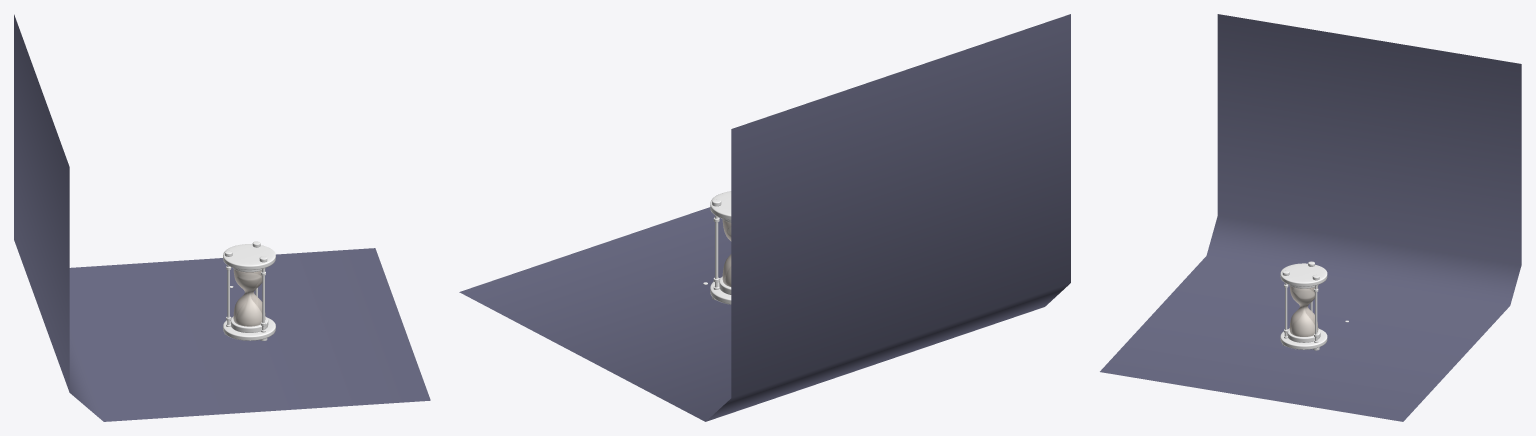
Rendered from sandglasses.glb.
3 renders of one model, left to right at view 1: azimuth 30°, elevation 25°; view 2: azimuth 150°, elevation 25°; view 3: azimuth 270°, elevation 25°, orthographic. The views are drawn at different scales.
Visible parts, largest first — view 1: Plane, Cylinder, Cylinder.002, Cylinder.009; view 2: Plane, Cylinder; view 3: Plane, Cylinder, Cylinder.002, Cylinder.009.
Boxes of the visible parts, x1,y1,x2,y2 form: Plane: (14,14,430,421); Cylinder: (223,244,275,340); Cylinder.002: (233,269,265,326); Cylinder.009: (236,273,261,325); Plane: (459,14,1070,421); Cylinder: (710,191,731,304); Plane: (1100,14,1521,421); Cylinder: (1280,263,1327,349); Cylinder.002: (1289,285,1318,336); Cylinder.009: (1292,288,1314,336).
Size of the model in its own units: 20.32 by 12.22 by 20.32.
